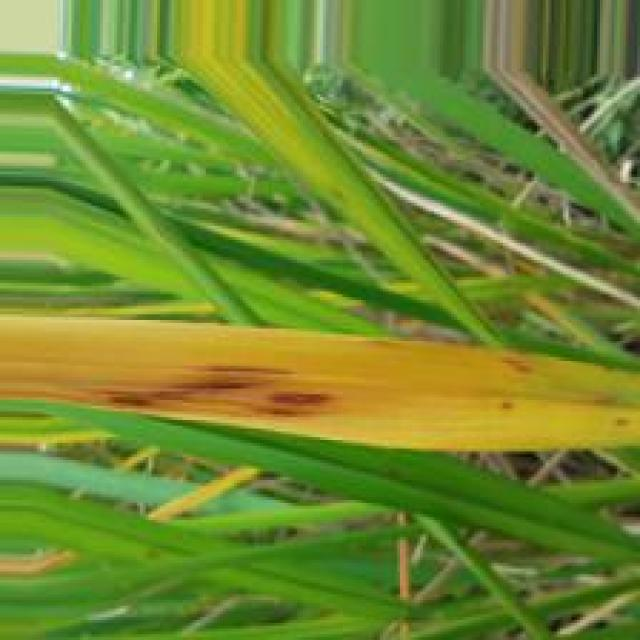Narrow_Brown_Leaf_Spot: (5, 322, 638, 422)
